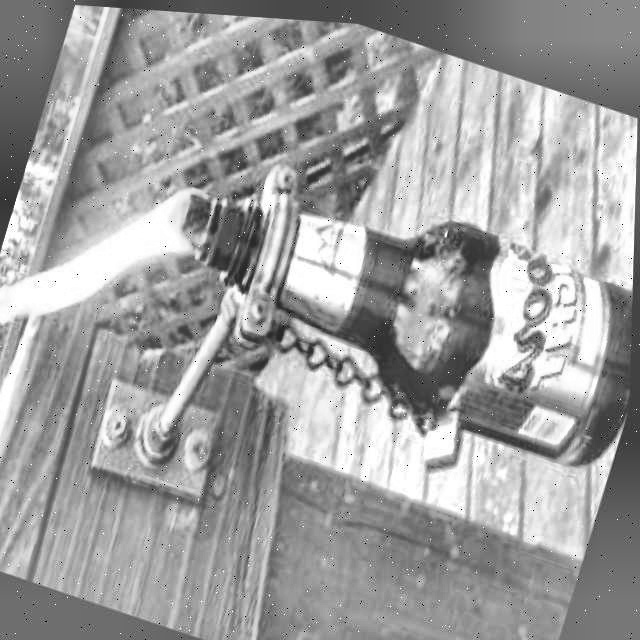Fire: (0, 119, 214, 396)
